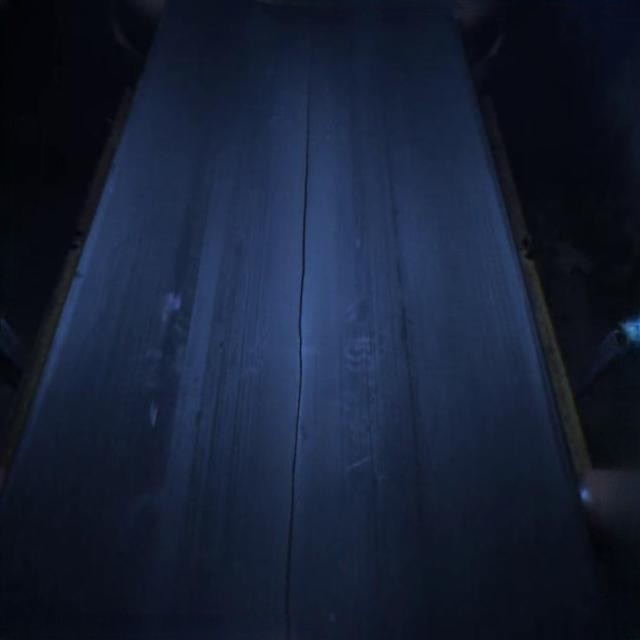Tear: (270, 43, 323, 640)
